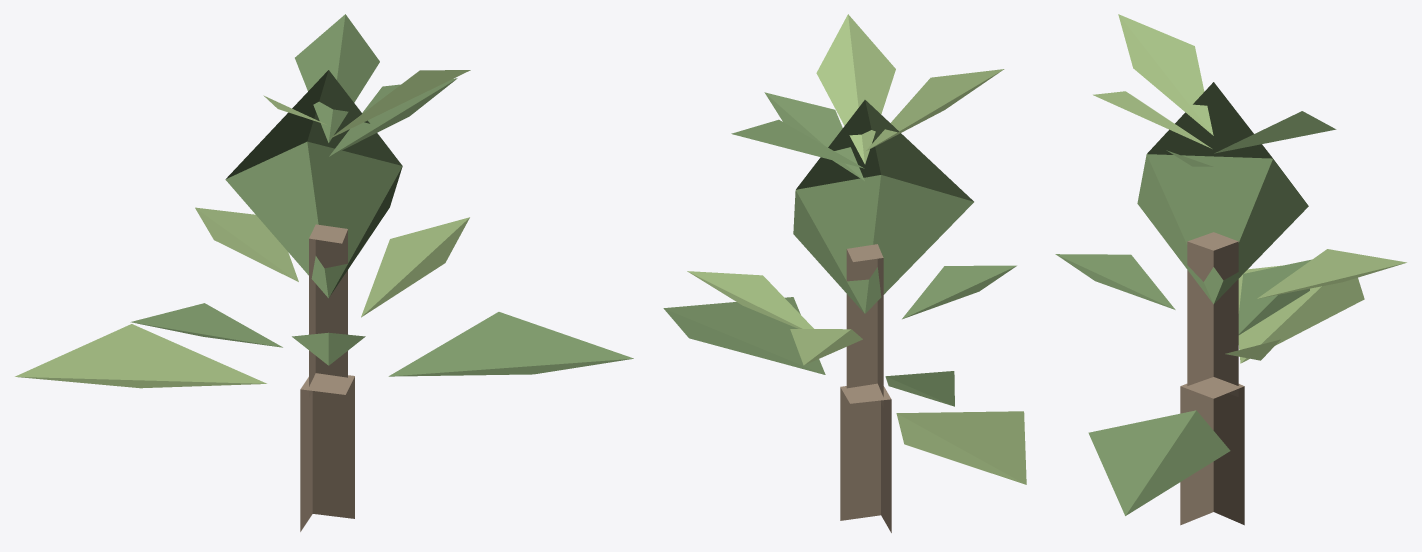
The model's file is shu.chuilui@seedling__spring.glb.
3 views of the same model, side by side, from view 1: azimuth 30°, elevation 25°; view 2: azimuth 150°, elevation 25°; view 3: azimuth 270°, elevation 25° (orthographic). The views are drawn at different scales.
Visible parts, largest first — view 1: shu.chuilui@seedling__spring; view 2: shu.chuilui@seedling__spring; view 3: shu.chuilui@seedling__spring.
Part boxes in pixels (<box>): shu.chuilui@seedling__spring: <box>15,14,633,531</box>; shu.chuilui@seedling__spring: <box>663,14,1026,532</box>; shu.chuilui@seedling__spring: <box>1055,14,1406,525</box>.
Bounding box in the file's own units: 1.38 × 1.26 × 0.8606.
